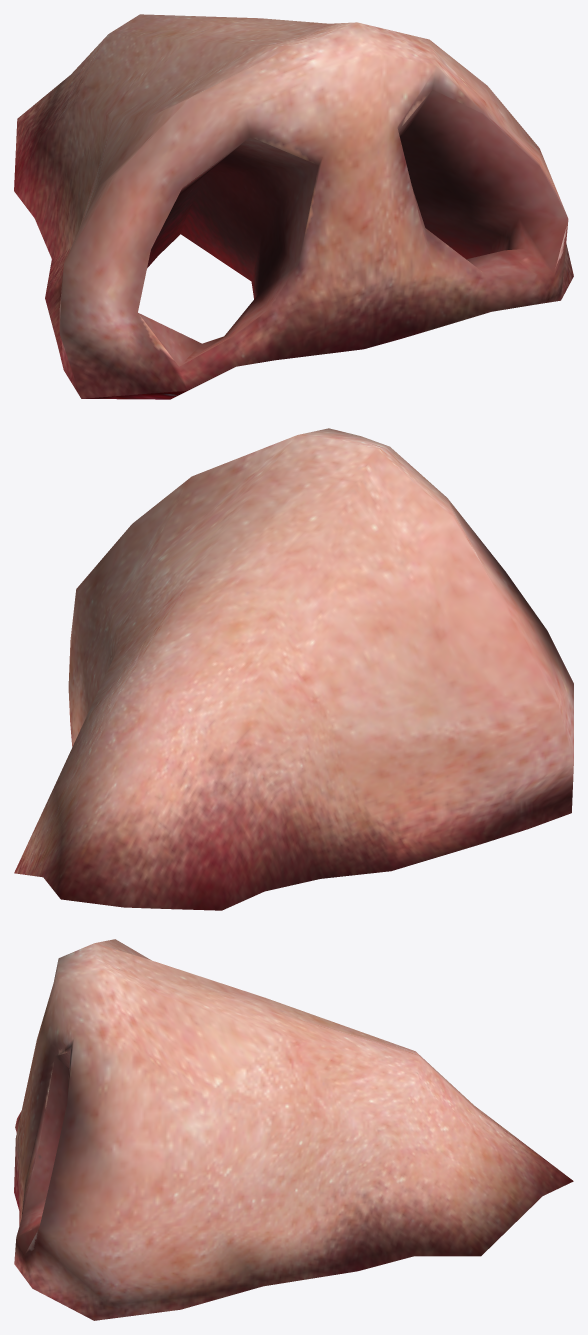
The model's file is Nose_6_low.fbx.
3 renders of one model, top to bottom at view 1: azimuth 30°, elevation 25°; view 2: azimuth 150°, elevation 25°; view 3: azimuth 270°, elevation 25°, orthographic. The views are drawn at different scales.
Visible parts, largest first — view 1: nose_6_low; view 2: nose_6_low; view 3: nose_6_low.
Part boxes in pixels (x1,y1,x2,y2): nose_6_low: [14, 14, 573, 399]; nose_6_low: [14, 428, 573, 910]; nose_6_low: [14, 939, 573, 1320].
Bounding box in the file's own units: 0.0467 × 0.0277 × 0.0522.
